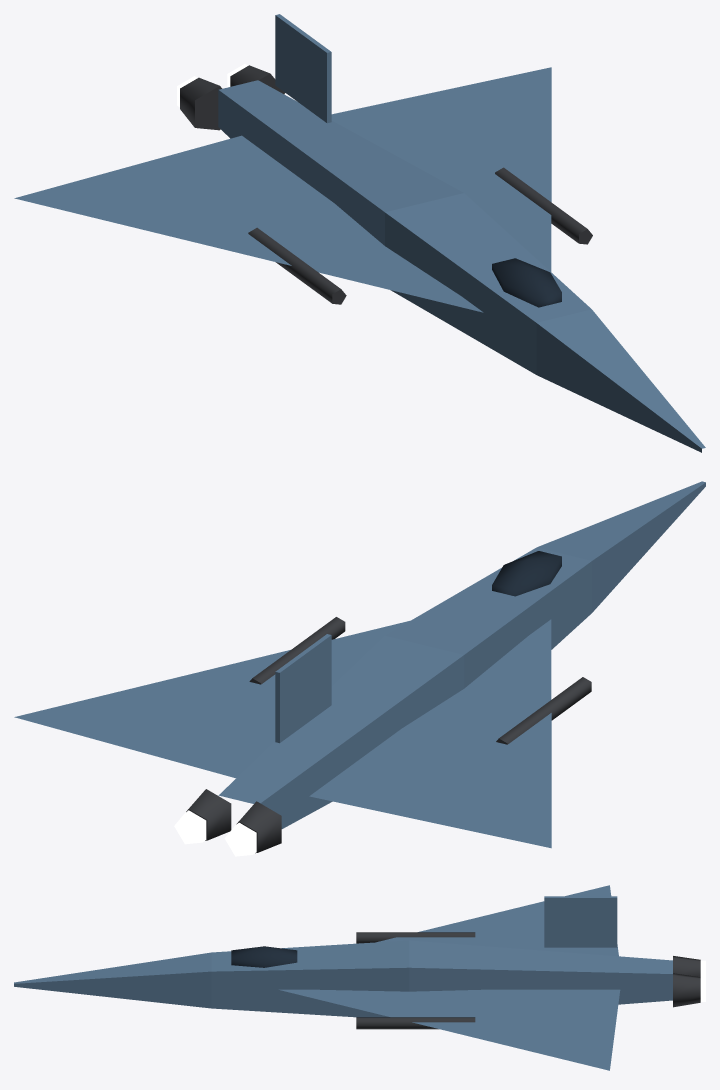
Rendered from space_ship_interceptor_mk6_lod1.glb.
3 views of the same model, one above another, from view 1: azimuth 30°, elevation 25°; view 2: azimuth 150°, elevation 25°; view 3: azimuth 270°, elevation 25° (orthographic). The views are drawn at different scales.
Parts seen in each view (by area): view 1: body, engine_0, gun_r, gun_l, engine_1; view 2: body, engine_1, engine_0, gun_r, gun_l; view 3: body, gun_l, engine_1, gun_r, engine_0.
Boxes of the visible parts, x1,y1,x2,y2 form: body: (14, 14, 705, 452); engine_0: (177, 76, 222, 130); gun_r: (248, 227, 346, 304); gun_l: (495, 167, 592, 244); engine_1: (227, 64, 284, 94); body: (14, 481, 705, 848); engine_1: (174, 789, 231, 844); engine_0: (224, 801, 281, 856); gun_r: (496, 677, 591, 744); gun_l: (249, 617, 345, 684); body: (14, 885, 672, 1070); gun_l: (356, 1017, 475, 1029); engine_1: (673, 973, 705, 1007); gun_r: (356, 932, 475, 943); engine_0: (673, 956, 705, 977).
Size of the model in its own units: 9.6 by 2.65 by 15.12.
